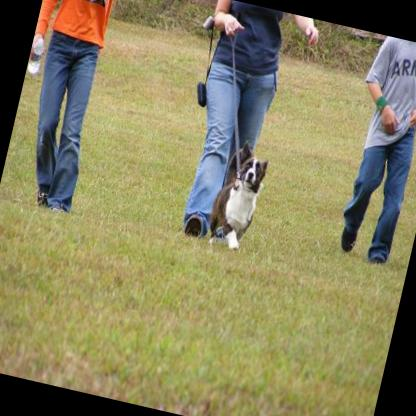Cardigan: (204, 135, 272, 252)
